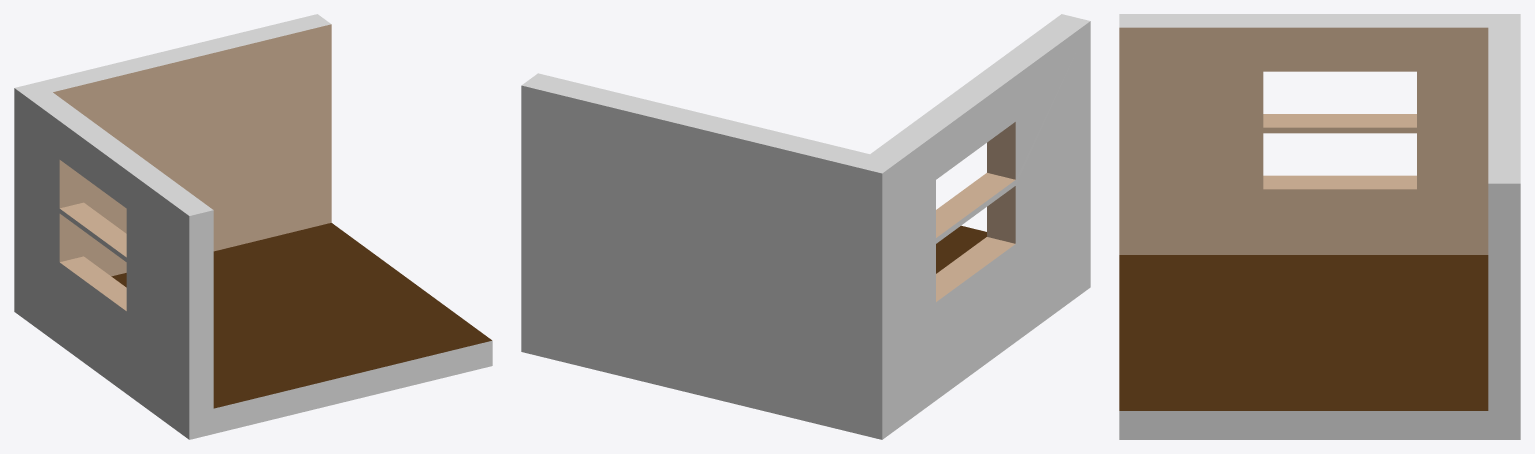
The model's file is WallFloor.glb.
3 renders of one model, left to right at view 1: azimuth 30°, elevation 25°; view 2: azimuth 150°, elevation 25°; view 3: azimuth 270°, elevation 25°, orthographic. The views are drawn at different scales.
Visible parts, largest first — view 1: Plane.001; view 2: Plane.001; view 3: Plane.001.
Part boxes in pixels (x1,y1,x2,y2): Plane.001: [14, 14, 492, 439]; Plane.001: [521, 14, 1090, 439]; Plane.001: [1119, 14, 1520, 439].
Size of the model in its own units: 4.53 by 3.2 by 4.53.
